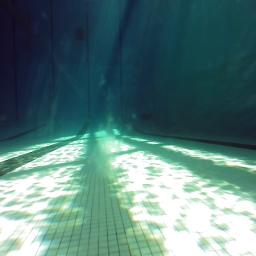Full: (141, 109, 154, 120)
